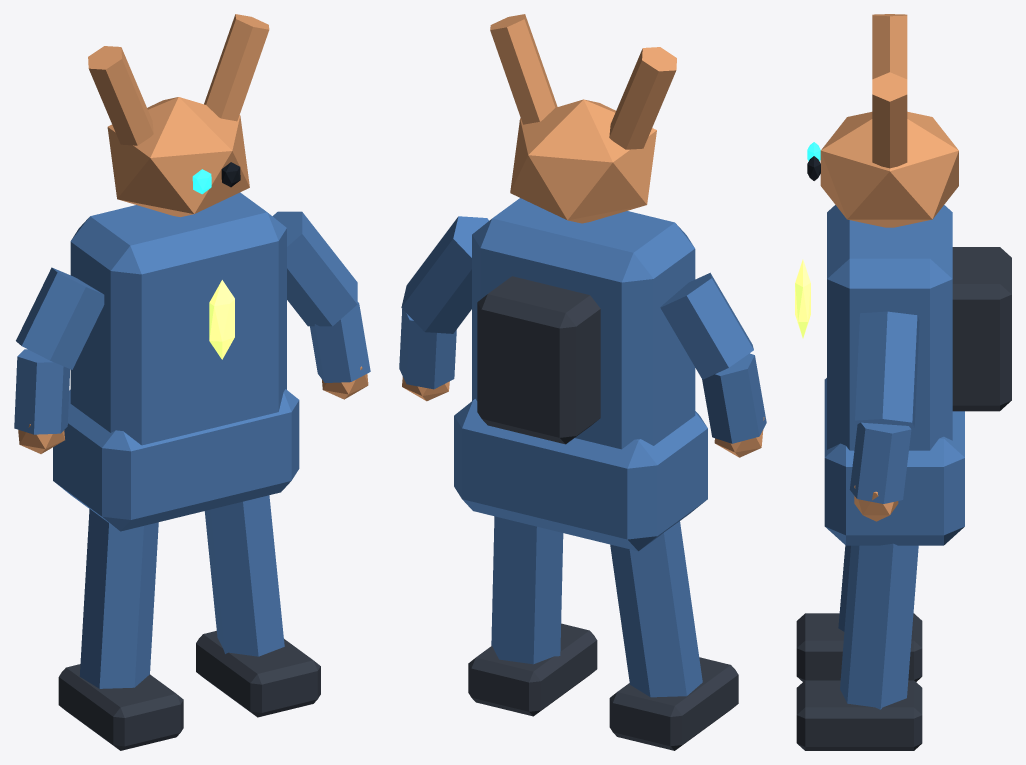
File: npcs_028_seed78877.glb
3 views of the same model, side by side, from view 1: azimuth 30°, elevation 25°; view 2: azimuth 150°, elevation 25°; view 3: azimuth 270°, elevation 25° (orthographic). The views are drawn at different scales.
Visible parts, largest first — view 1: npcs_028_seed78877; view 2: npcs_028_seed78877; view 3: npcs_028_seed78877.
Boxes of the visible parts, x1,y1,x2,y2 form: npcs_028_seed78877: (14, 14, 370, 750); npcs_028_seed78877: (399, 14, 766, 750); npcs_028_seed78877: (795, 14, 1011, 750).
Size of the model in its own units: 1.2 by 2.17 by 0.6445.
